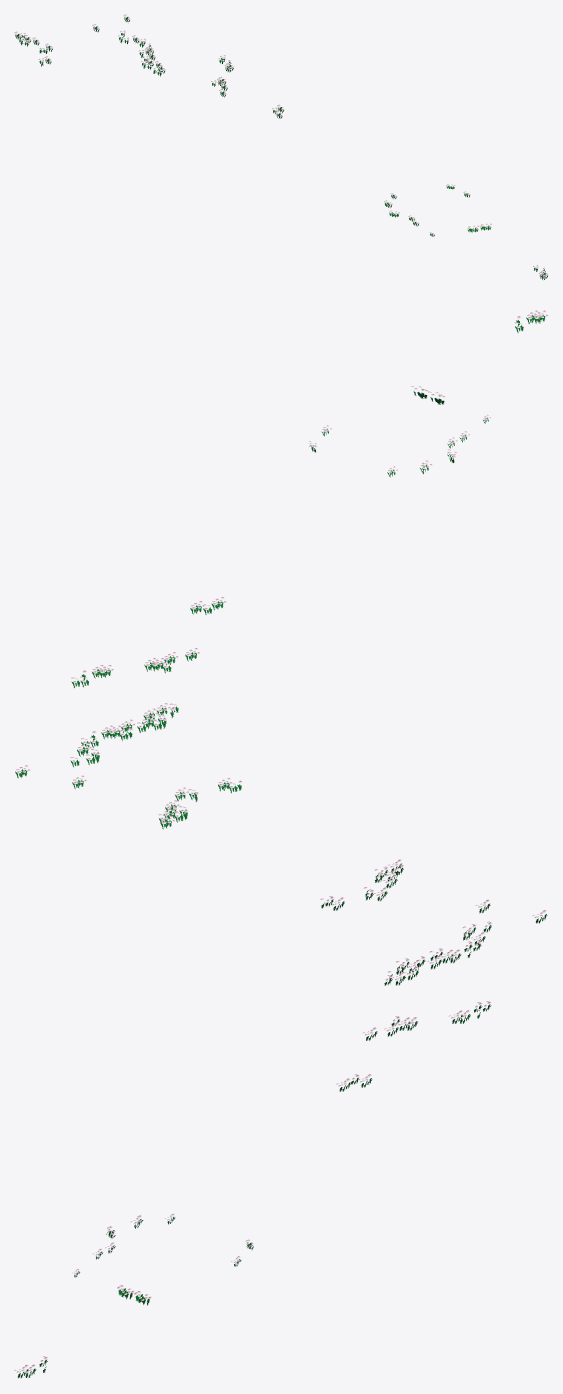
The model's file is flowerA.fbx.
3 views of the same model, one above another, from view 1: azimuth 30°, elevation 25°; view 2: azimuth 150°, elevation 25°; view 3: azimuth 330°, elevation 25° (orthographic). The views are drawn at different scales.
Parts seen in each view (by area): view 1: flowerA; view 2: flowerA; view 3: flowerA.
Part boxes in pixels (<box>): flowerA: <box>14,14,548,279</box>; flowerA: <box>15,310,548,829</box>; flowerA: <box>14,859,547,1378</box>.
Bounding box in the file's own units: 1936 × 62.65 × 6780.
1 material, 1 textured.
